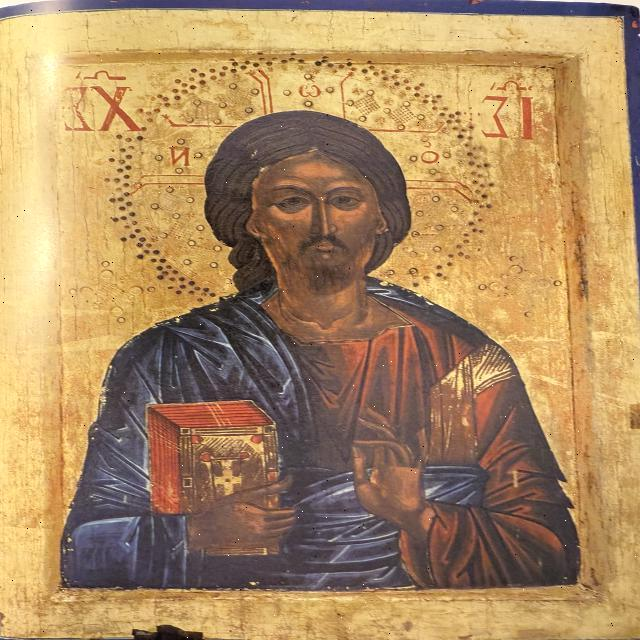aura: (107, 57, 496, 307)
book: (137, 387, 301, 553)
christ: (66, 56, 577, 591)
christ_hand: (338, 405, 477, 553)
